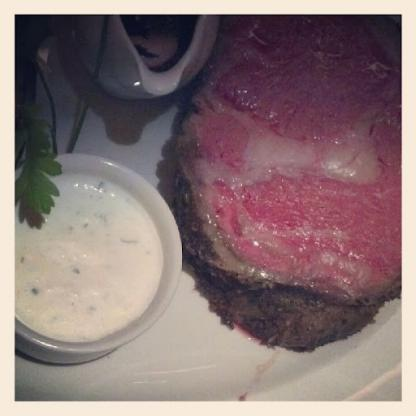beef: (176, 2, 415, 345)
yogurt: (3, 166, 164, 348)
